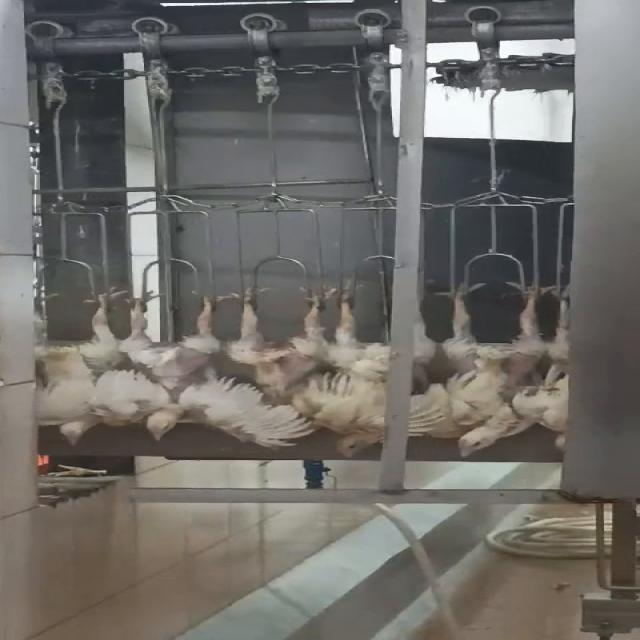chicken: (132, 288, 311, 456), (414, 276, 555, 460), (29, 288, 139, 447), (217, 282, 336, 405), (318, 281, 395, 464), (540, 282, 568, 447)
